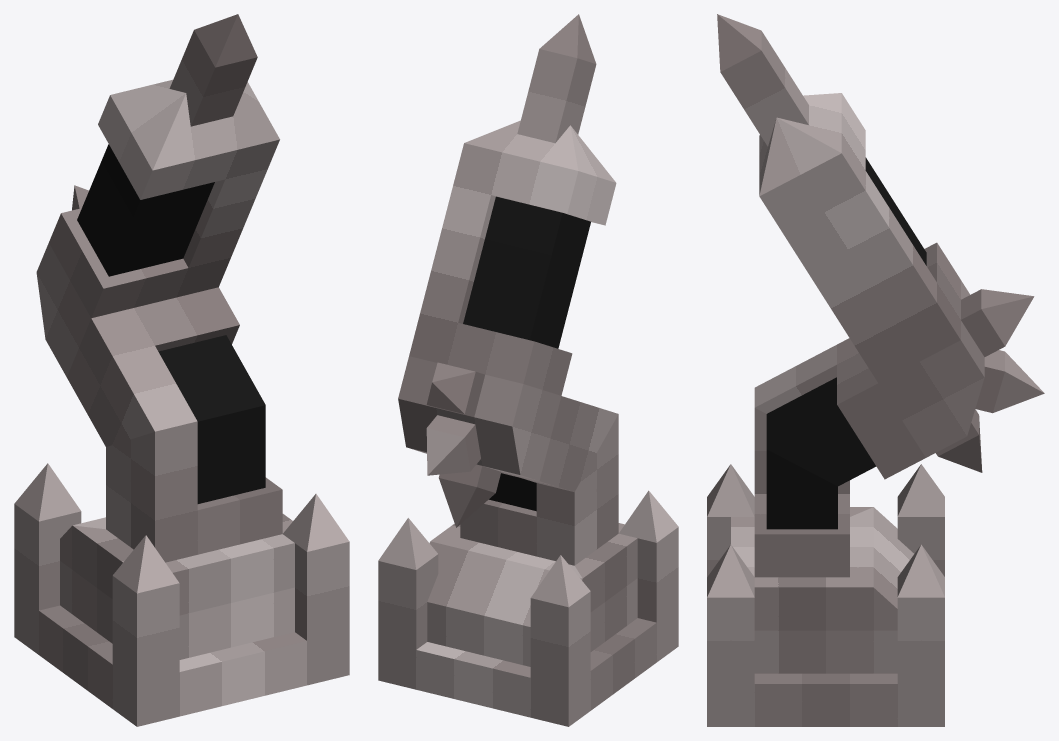
The model's file is leg_basic_l.obj.
3 renders of one model, left to right at view 1: azimuth 30°, elevation 25°; view 2: azimuth 150°, elevation 25°; view 3: azimuth 270°, elevation 25°, orthographic. The views are drawn at different scales.
Parts seen in each view (by area): view 1: LEG_LEFT_BASIC_Cube.013, LEG_LEFT_DECO_IRON_OUTERFOOT_Cube.164, LEG_LEFT_DECO_IRON_Cube.165; view 2: LEG_LEFT_BASIC_Cube.013, LEG_LEFT_DECO_IRON_Cube.165, LEG_LEFT_DECO_IRON_OUTERFOOT_Cube.164; view 3: LEG_LEFT_BASIC_Cube.013, LEG_LEFT_DECO_IRON_Cube.165, LEG_LEFT_DECO_IRON_OUTERFOOT_Cube.164.
Boxes of the visible parts, left/top/right/bottom form: LEG_LEFT_BASIC_Cube.013: left=14, top=79, right=349, bottom=726; LEG_LEFT_DECO_IRON_OUTERFOOT_Cube.164: left=14, top=463, right=179, bottom=682; LEG_LEFT_DECO_IRON_Cube.165: left=72, top=14, right=349, bottom=640; LEG_LEFT_BASIC_Cube.013: left=378, top=120, right=678, bottom=726; LEG_LEFT_DECO_IRON_Cube.165: left=378, top=14, right=596, bottom=649; LEG_LEFT_DECO_IRON_OUTERFOOT_Cube.164: left=530, top=490, right=678, bottom=686; LEG_LEFT_BASIC_Cube.013: left=707, top=93, right=984, bottom=726; LEG_LEFT_DECO_IRON_Cube.165: left=707, top=14, right=1044, bottom=683; LEG_LEFT_DECO_IRON_OUTERFOOT_Cube.164: left=707, top=464, right=944, bottom=576.
Size of the model in its own units: 0.3125 by 0.9599 by 0.4435.
